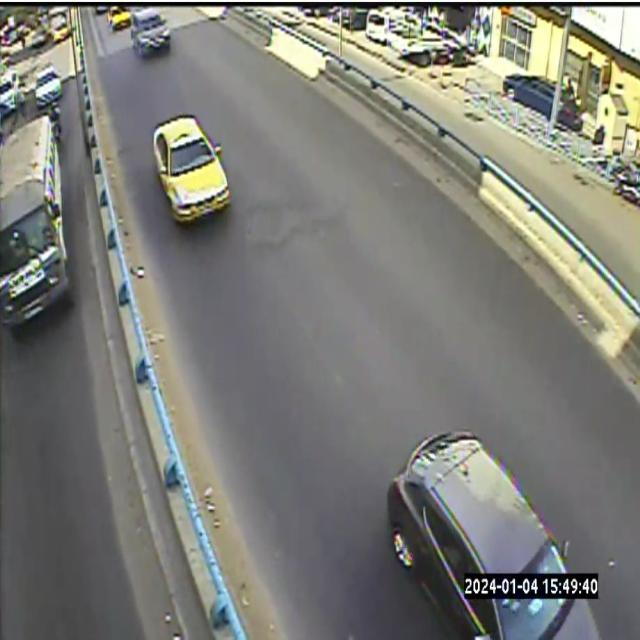car: (387, 432, 600, 639), (153, 116, 230, 223), (131, 7, 170, 56), (108, 6, 131, 30)
